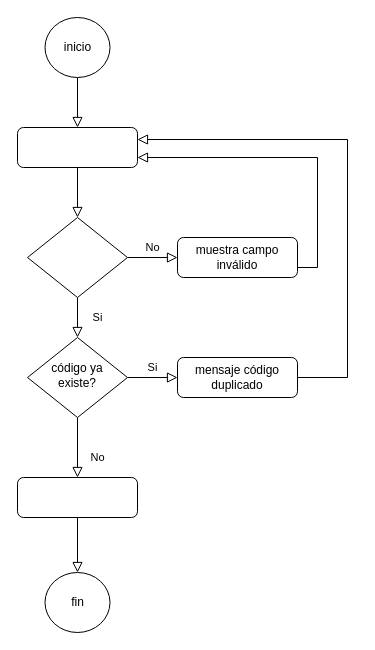
Image size: 375x650. Some labels were removed from this diagram. The centre of each missing label's shape, as x and y in pixels:
"campos válidos?" belongs at point (77, 257).
"guardar producto" belongs at point (77, 497).
"ingresar datos producto" belongs at point (77, 147).
